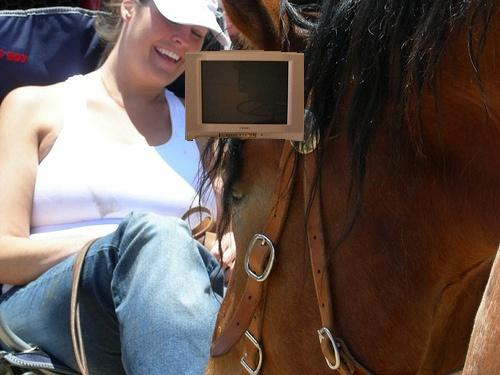tampered: (186, 51, 304, 141)
